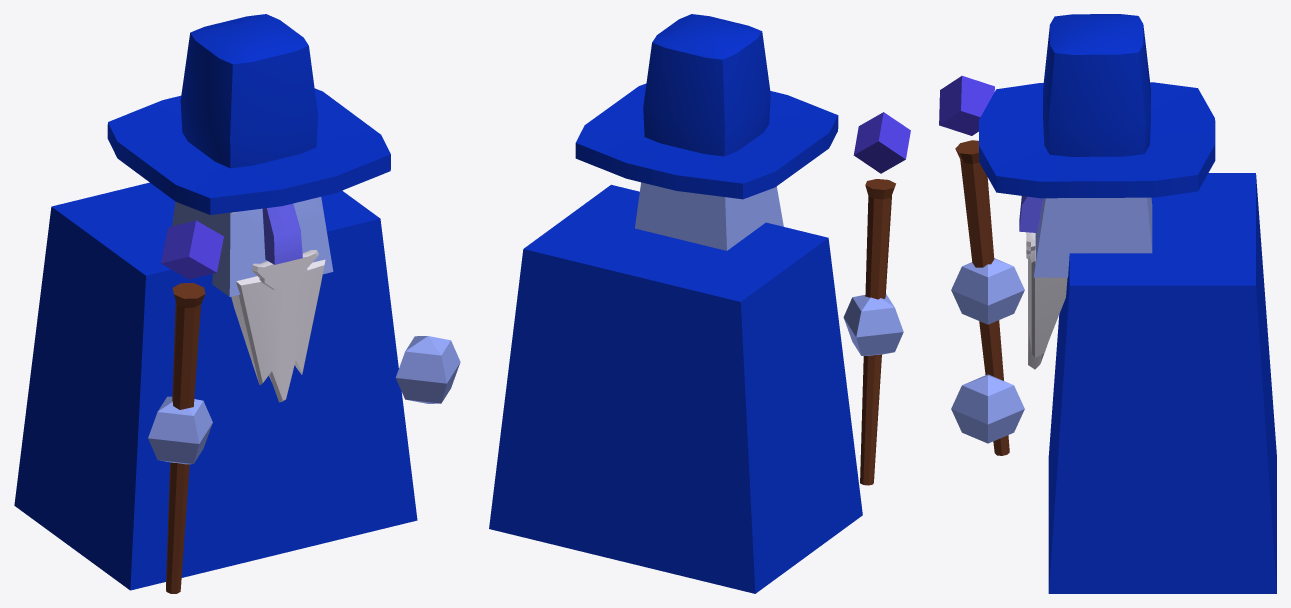
The model's file is SquareWiz.fbx.
The picture shows the model from 3 angles, left to right: view 1: azimuth 30°, elevation 25°; view 2: azimuth 150°, elevation 25°; view 3: azimuth 270°, elevation 25°; orthographic projection. The views are drawn at different scales.
Parts seen in each view (by area): view 1: Cube.002, Cylinder, Sphere.001, Sphere, Cylinder.001; view 2: Cube.002, Cylinder, Sphere, Cylinder.001; view 3: Cube.002, Cylinder, Sphere.001, Sphere, Cylinder.001.
Boxes of the visible parts, x1=… form: Cube.002: x1=14, y1=14, x2=417, y2=590; Cylinder: x1=166, y1=283, x2=205, y2=593; Sphere.001: x1=395, y1=336, x2=460, y2=403; Sphere: x1=148, y1=396, x2=212, y2=464; Cylinder.001: x1=161, y1=220, x2=223, y2=279; Cube.002: x1=489, y1=14, x2=862, y2=593; Cylinder: x1=860, y1=179, x2=895, y2=485; Sphere: x1=843, y1=294, x2=903, y2=355; Cylinder.001: x1=853, y1=112, x2=910, y2=173; Cube.002: x1=979, y1=14, x2=1276, y2=593; Cylinder: x1=955, y1=140, x2=1009, y2=455; Sphere.001: x1=951, y1=374, x2=1024, y2=443; Sphere: x1=951, y1=258, x2=1024, y2=324; Cylinder.001: x1=939, y1=75, x2=994, y2=135.
Bounding box in the file's own units: 218 × 336 × 207.
Materials: 3 (1 with a texture image).
